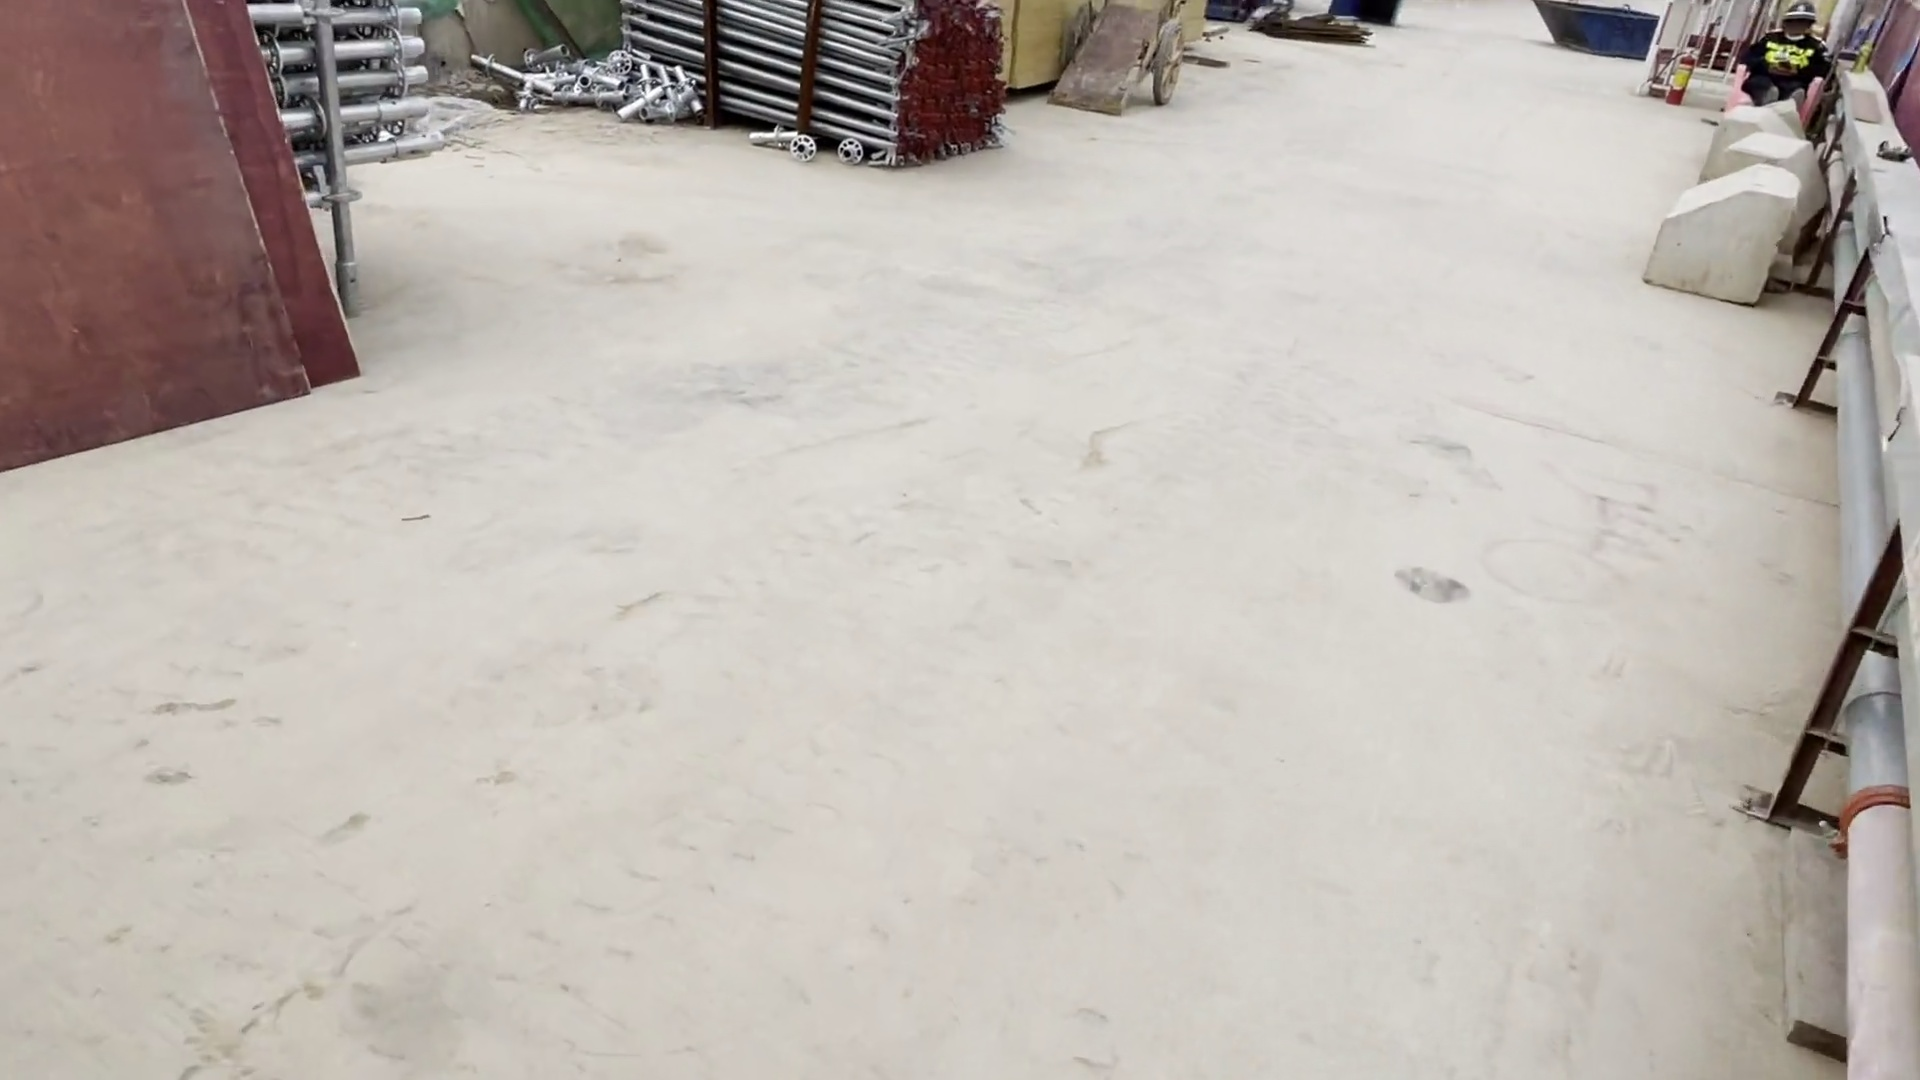scaffold: (622, 1, 998, 194), (249, 1, 456, 212)
